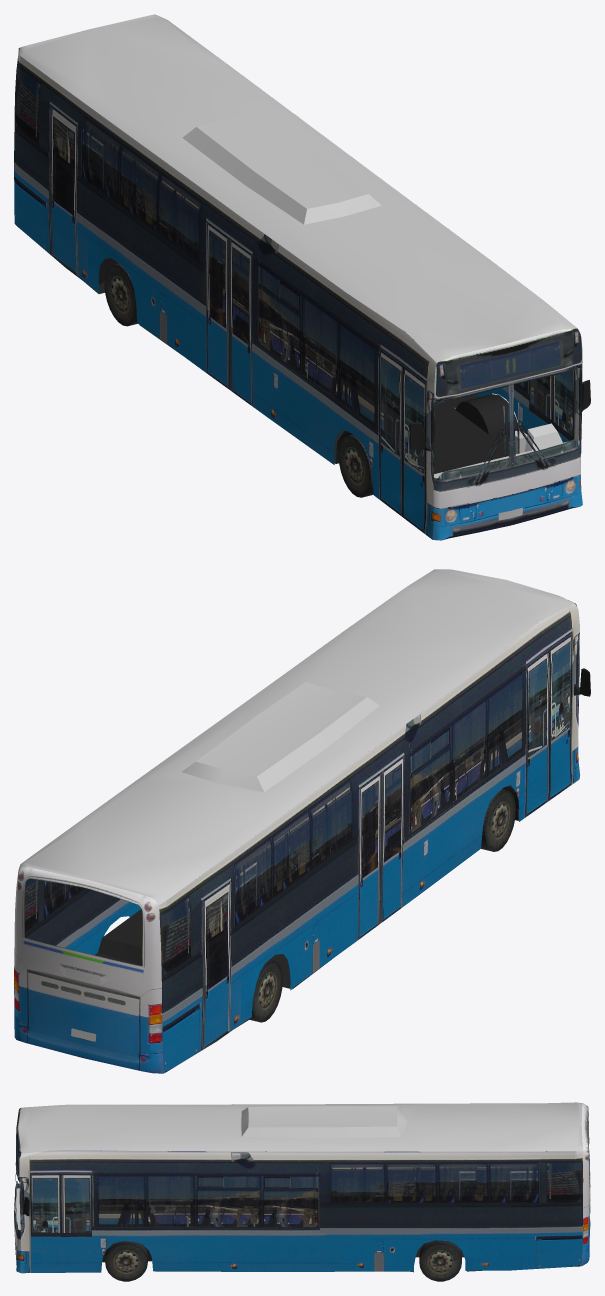
Rendered from Bus02.FBX.
3 renders of one model, top to bottom at view 1: azimuth 30°, elevation 25°; view 2: azimuth 150°, elevation 25°; view 3: azimuth 270°, elevation 25°, orthographic. The views are drawn at different scales.
Parts seen in each view (by area): view 1: 32Bus, Object001, Object004; view 2: 32Bus, Object001, Object004; view 3: 32Bus, Object003, Object002.
Boxes of the visible parts, box(x1,y1,x2,y2) form: 32Bus: box(14, 14, 590, 540); Object001: box(338, 434, 373, 497); Object004: box(104, 263, 137, 326); 32Bus: box(14, 569, 590, 1073); Object001: box(481, 789, 515, 851); Object004: box(249, 959, 282, 1022); 32Bus: box(14, 1102, 590, 1273); Object003: box(419, 1240, 461, 1281); Object002: box(105, 1241, 147, 1281).
Bounding box in the file's own units: 3.01 × 3.35 × 12.4.
